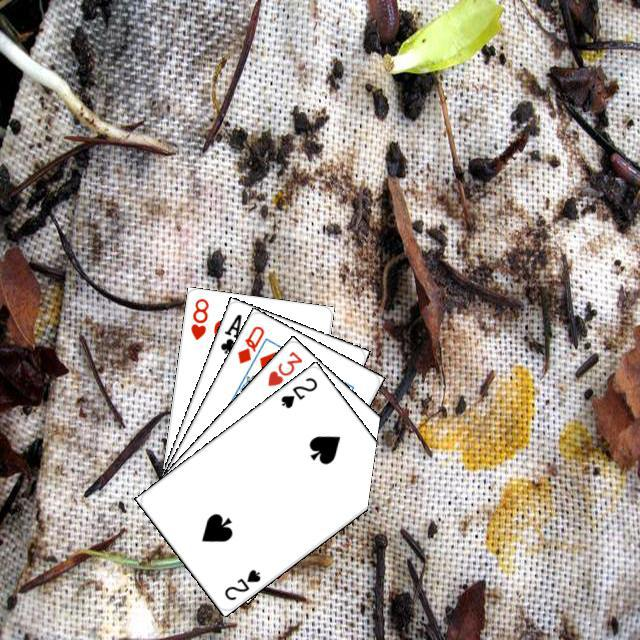2s: (219, 564, 263, 602), (276, 372, 319, 410)
3h: (263, 346, 304, 388)
8h: (186, 293, 210, 341)
Ac: (215, 309, 244, 356)
Qd: (232, 321, 266, 365)
